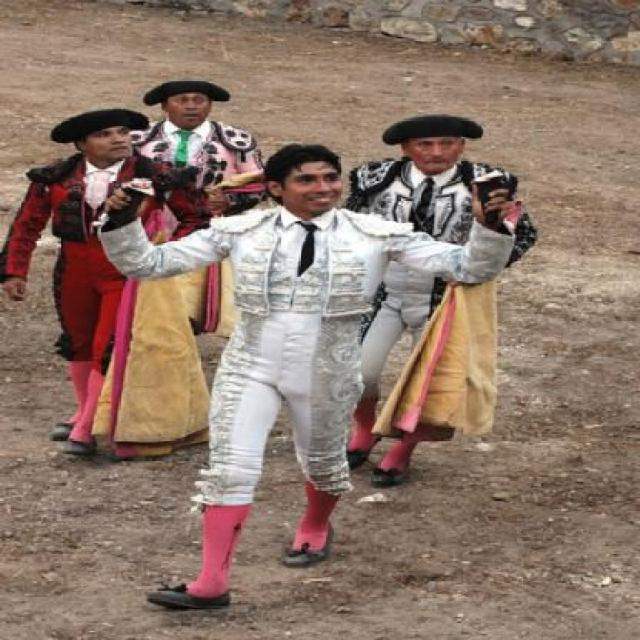Person: (91, 139, 515, 610), (343, 111, 540, 488), (29, 97, 177, 455), (131, 77, 275, 335)
